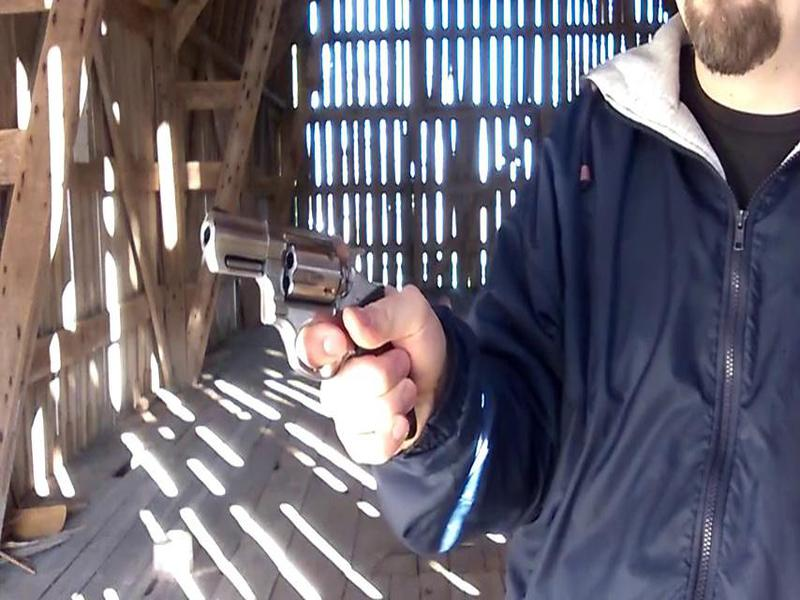Revolver: (197, 206, 439, 464)
